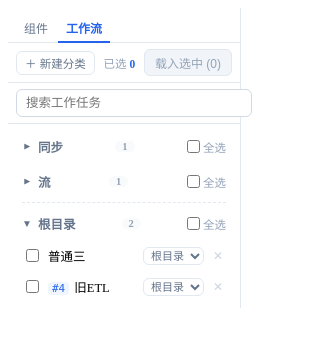
INC4-FE-4 工作流目录树（三分类收窄 + 行操作 RED 降级） › 目录树渲染：同步/流内置目录 + 根目录平铺（ETL 降级），.fold 默认收起 toggle，行操作门控
Expected: the element showing "▼ 流 1 全选" is shown, [22,175,226,190]
Expected: the text with class "cnt" next to "同步" reads "1", [122,141,128,152]
Click the element showing "▼ 同步 1 全选" at (124, 148), box [22,140,226,155]
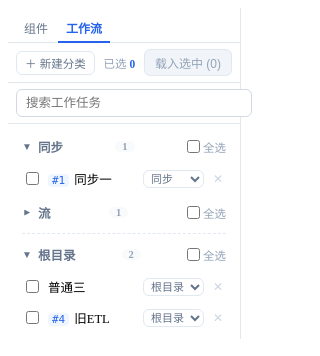
Expected: the element with class "wf-root-item" shows "普通三", [48,281,86,295]
Expected: the number of elements with class "wf-root-item" is 2, [26,278,223,296]; [26,308,223,326]
